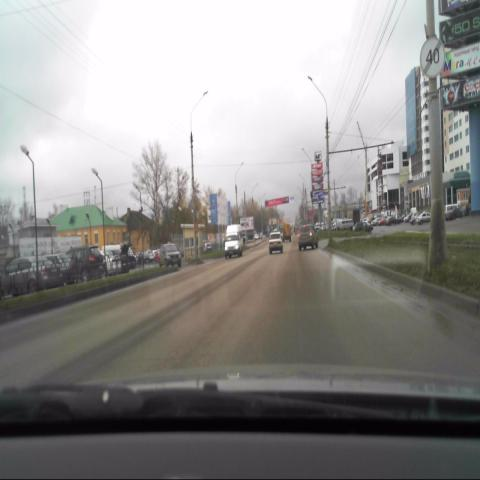3_25: (419, 35, 445, 79)
